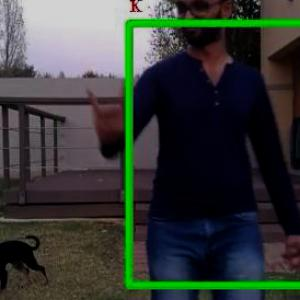takeoff-hand: (78, 76, 137, 146)
